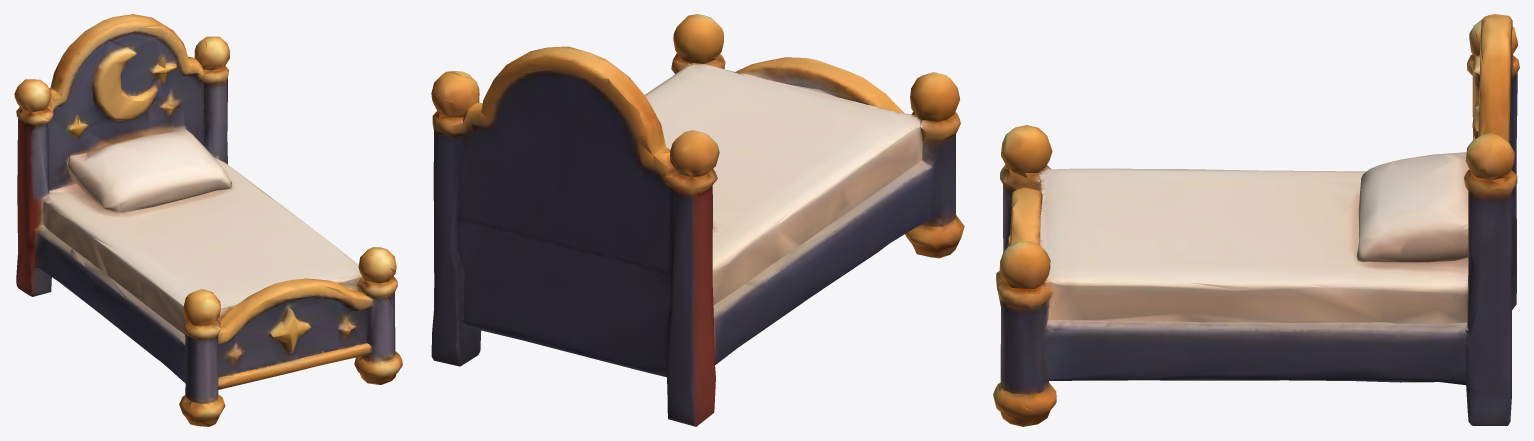
The model's file is bed15.glb.
3 views of the same model, side by side, from view 1: azimuth 30°, elevation 25°; view 2: azimuth 150°, elevation 25°; view 3: azimuth 270°, elevation 25° (orthographic). The views are drawn at different scales.
Bounding box in the file's own units: 0.1796 × 0.1993 × 0.2794.
Materials: 1 (1 with a texture image).
